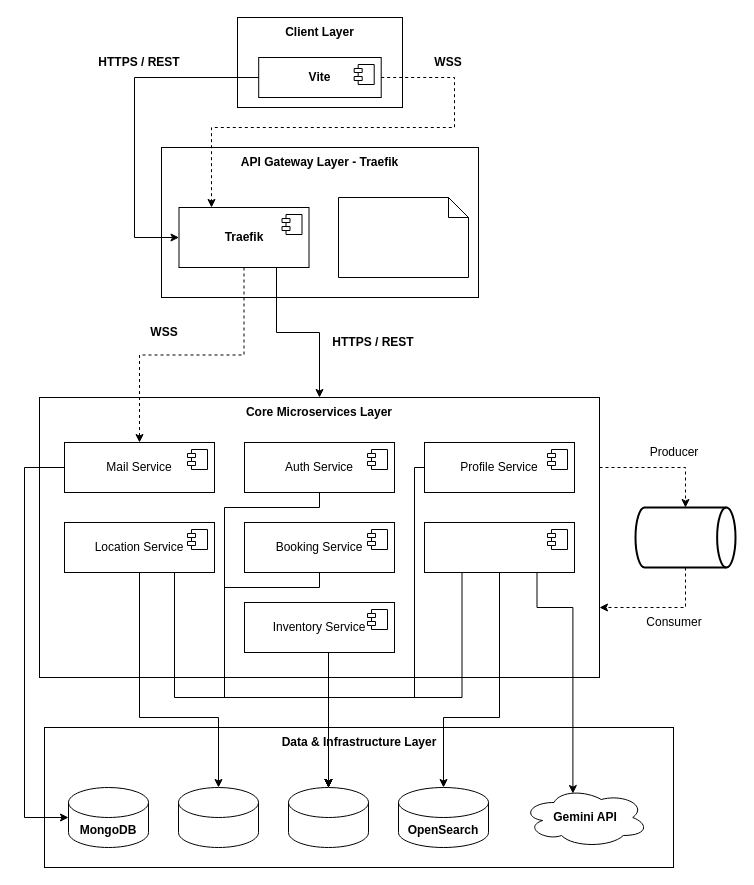
Some shapes in this 754 by 885 pixel diagram are drawn without their labels. The box of each missing label's shape, as (x1, y1, x2, y2) in pixels:
Chức năng - Routing - WebSocket Proxy: (338, 196, 468, 278)
Kafka: (634, 506, 736, 568)
MySQL: (288, 786, 368, 848)
Product Service: (424, 522, 574, 572)
Redis: (178, 786, 258, 848)
